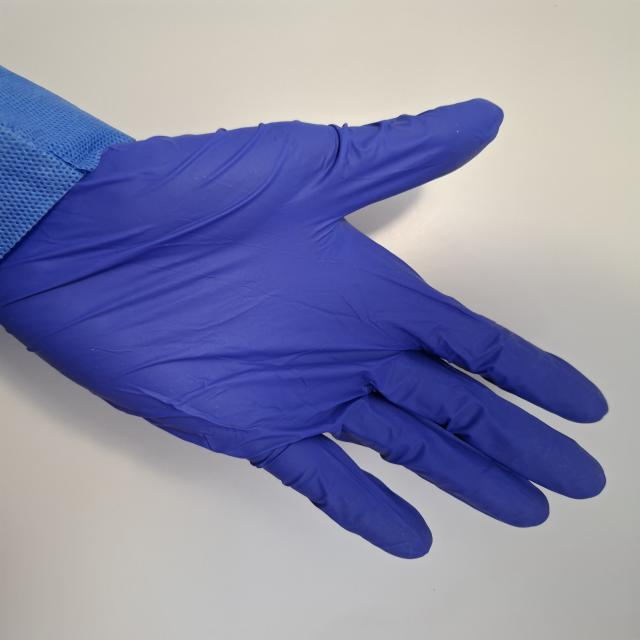glove_on: (3, 94, 613, 560)
